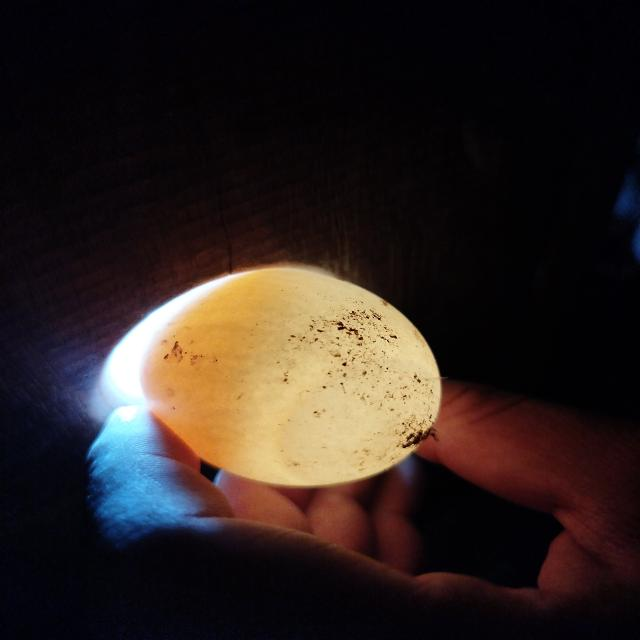Camara de Ar: (284, 362, 437, 481)
